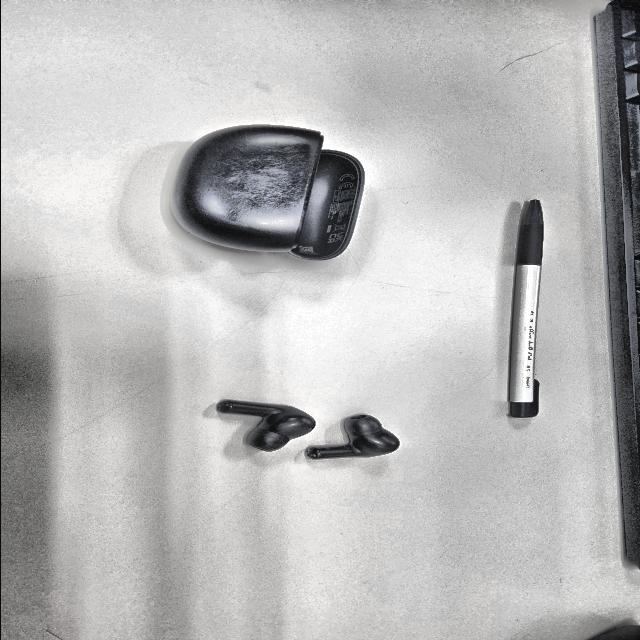Bluetooth headphones: (171, 125, 363, 260), (217, 400, 314, 451), (305, 415, 399, 459)
